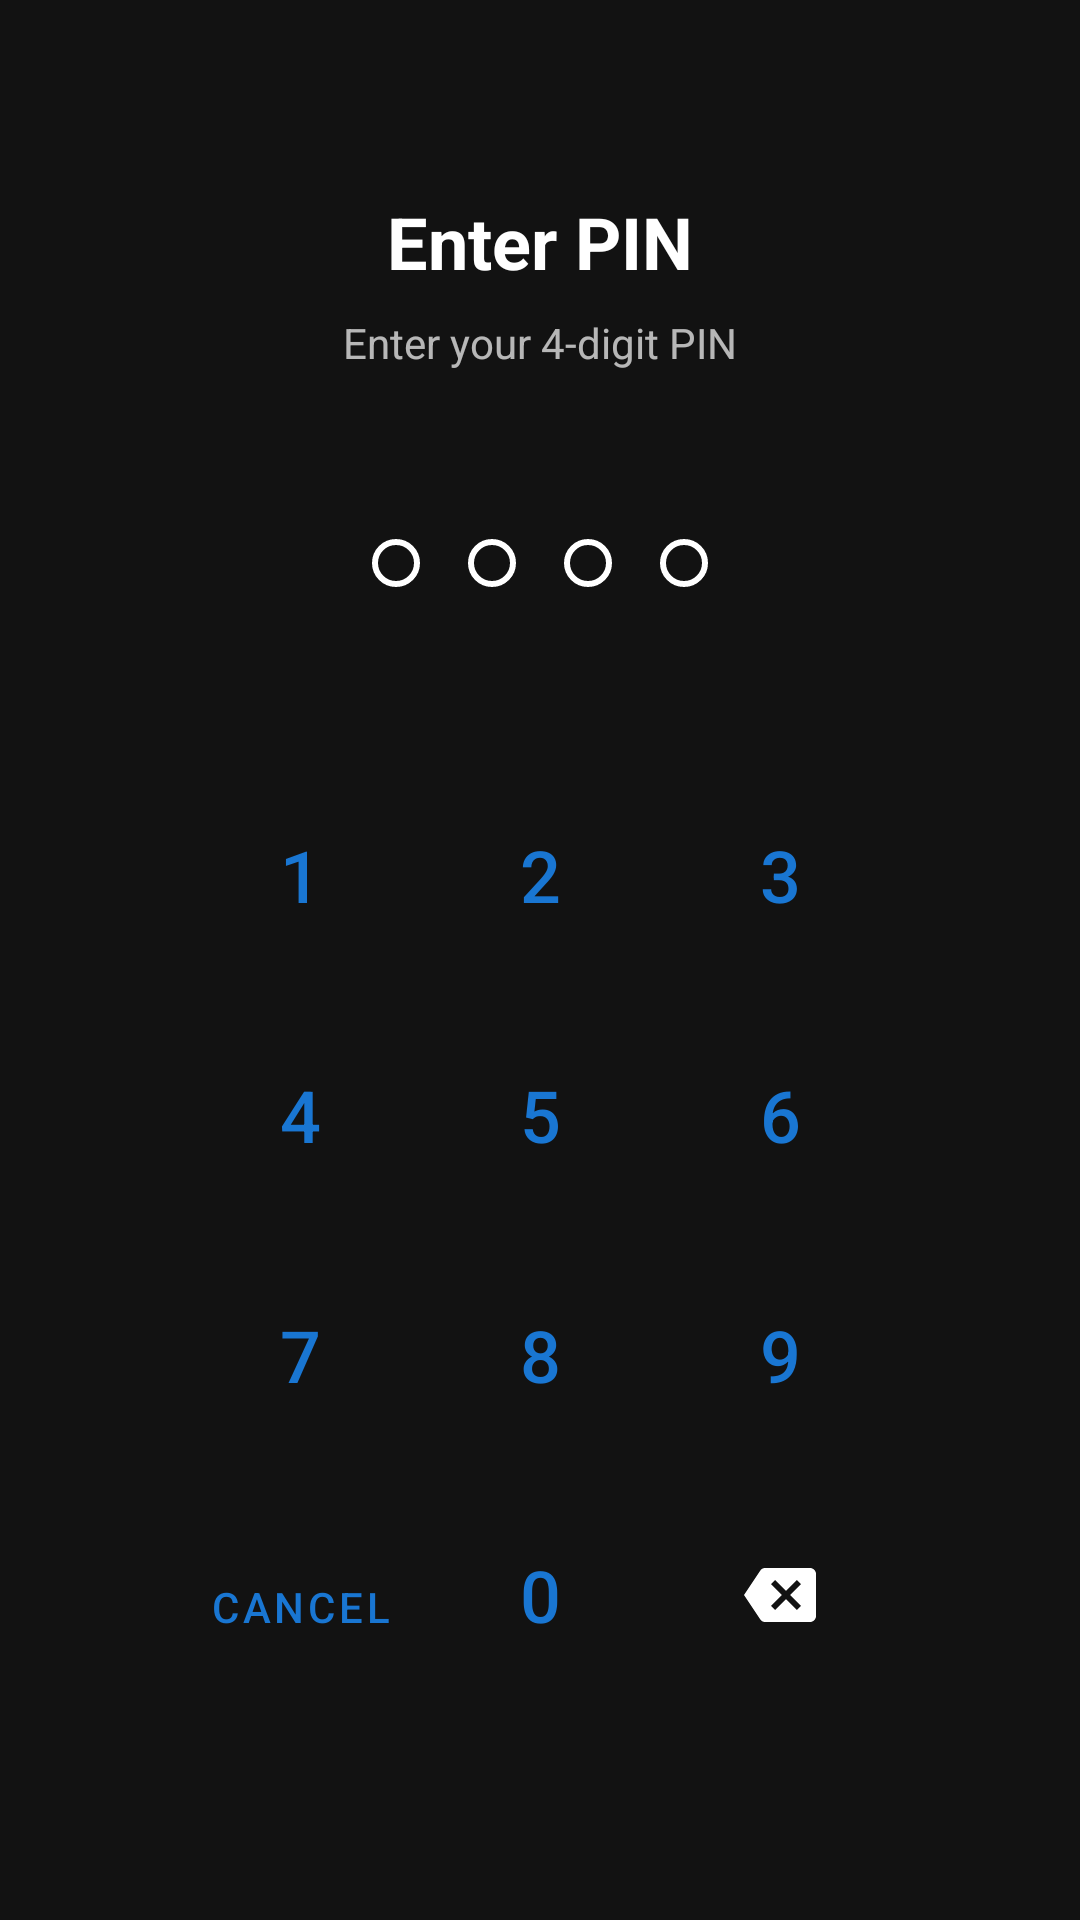

Screen size 1080×1920. Icon name, then its box in pixels as detection(x1, y1, x2, y2):
Backspace: detection(744, 1568, 816, 1622)
pin indicator: detection(372, 539, 420, 587), detection(468, 539, 516, 587), detection(564, 539, 612, 587), detection(660, 539, 708, 587)
